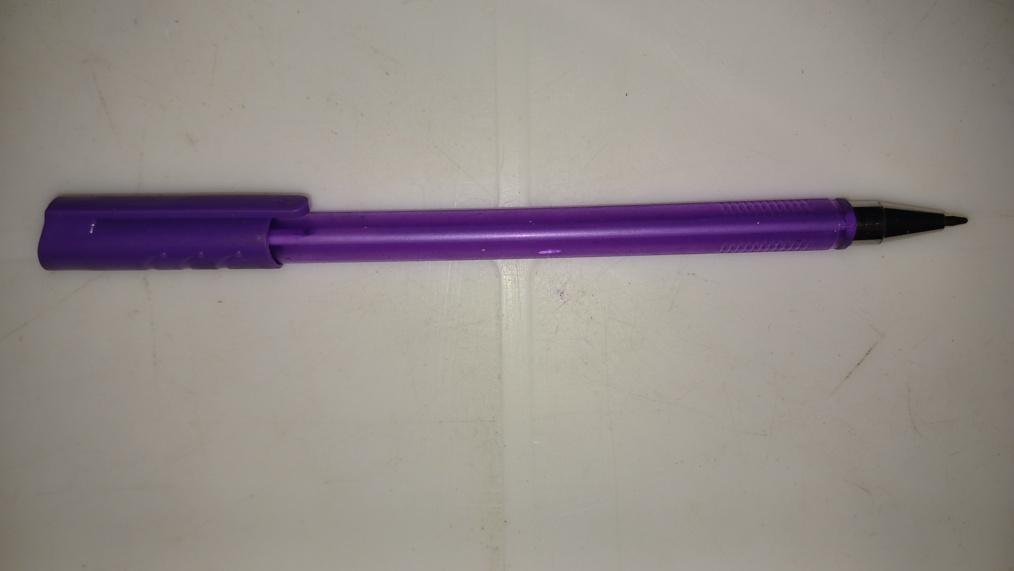pen: (43, 191, 968, 272)
